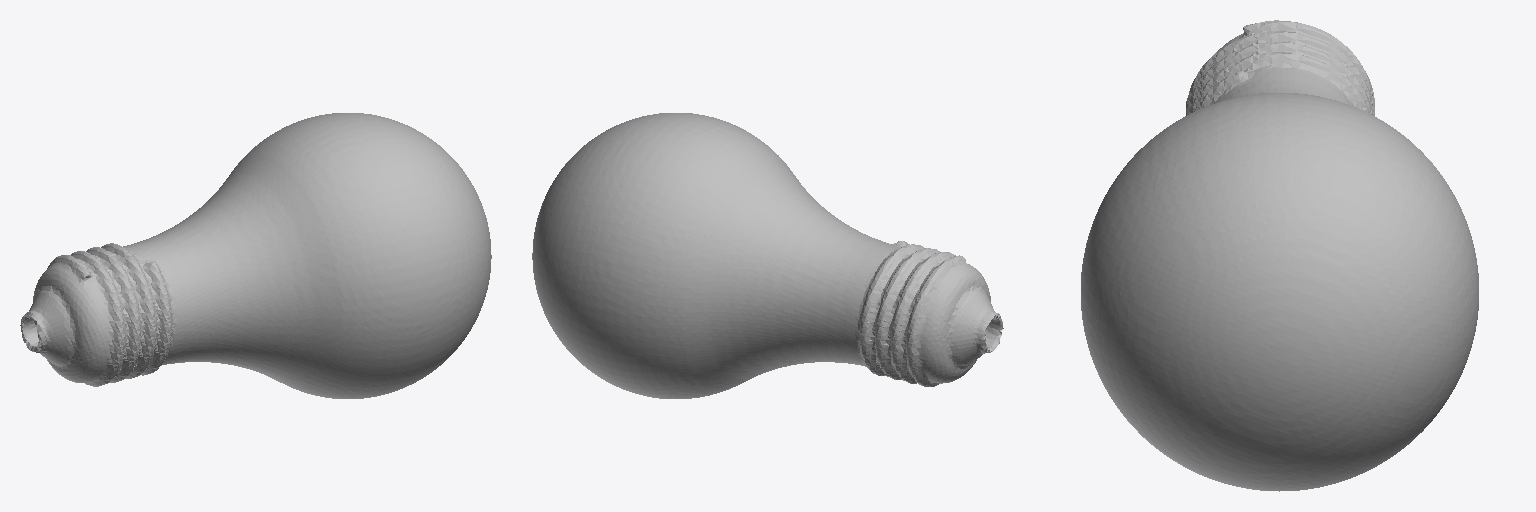
The robot description file, URDF, robot "root":
<robot name="root">
  <link name="link_001">
    <visual>
      <origin xyz="0 0 0" rpy="0 0 0"/>
      <geometry>
        <mesh filename="lightbulb.obj" scale="0.600E+00 0.600E+00 0.6000E+00"/>
      </geometry>
      <material name="">
        <color rgba="7.50E-01 7.50E-01 7.50E-01 1"/>
      </material>
    </visual>
    <collision>
      <origin xyz="0 0 0" rpy="0 0 0"/>
      <geometry>
        <mesh filename="lightbulb.obj" scale="0.6000E+00 0.6000E+00 0.6000E+00"/>
      </geometry>
    </collision>
    <inertial>
      <mass value="0.16"/> <!-- 质量：0.1kg -->
    </inertial>
  </link>
</robot>

--- What the picture shows (computed from the rendered views, not written in the file) ---
3 views of the same robot in one strip: view 1: azimuth 30°, elevation 25°; view 2: azimuth 150°, elevation 25°; view 3: azimuth 270°, elevation 25° (orthographic).
Model root with 1 links and 0 joints (none), rooted at link_001, posed every joint at zero.
Visible links, largest first — view 1: link_001; view 2: link_001; view 3: link_001.
Boxes of the visible links, left/top/right/bottom form: link_001: left=20, top=113, right=491, bottom=398; link_001: left=532, top=113, right=1003, bottom=398; link_001: left=1081, top=20, right=1478, bottom=491.
Bounding box of the posed robot: 0.0663 × 0.0372 × 0.0372 m (x, y, z).
1 mesh visuals loaded from 1 distinct referenced files (1 OBJ).
